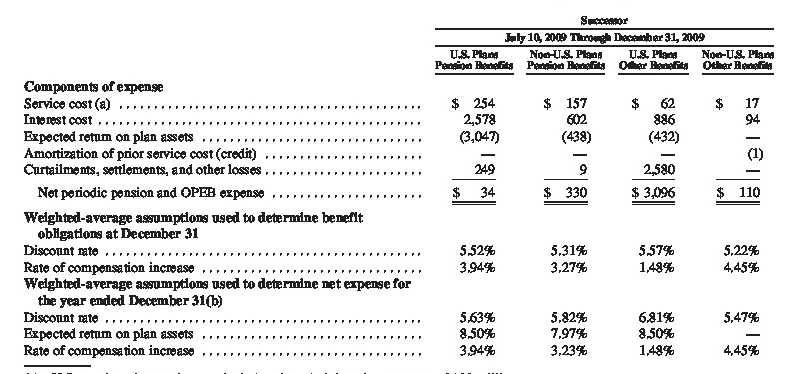table: (0, 0, 794, 374)
